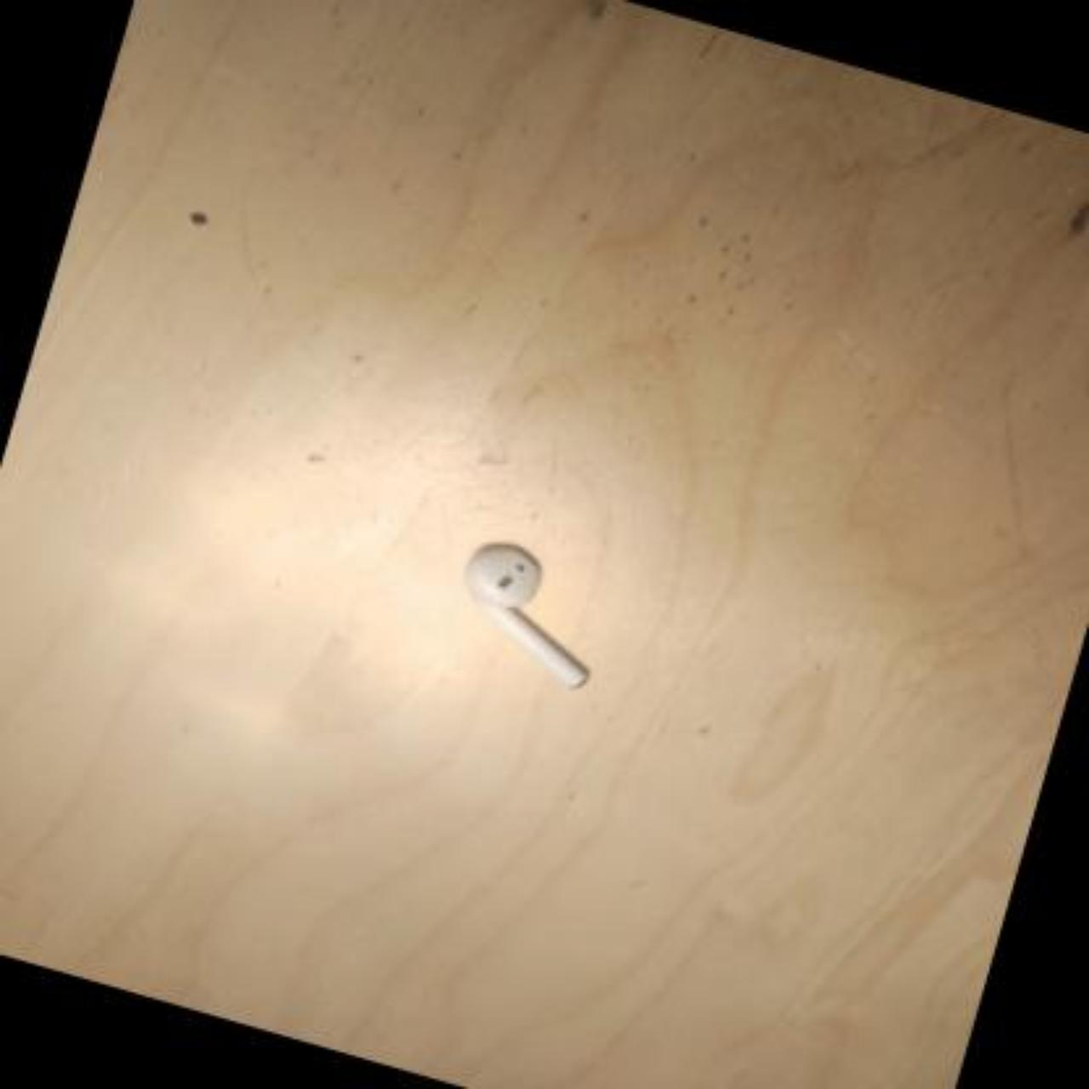Airpods_Units: (439, 535, 621, 694)
